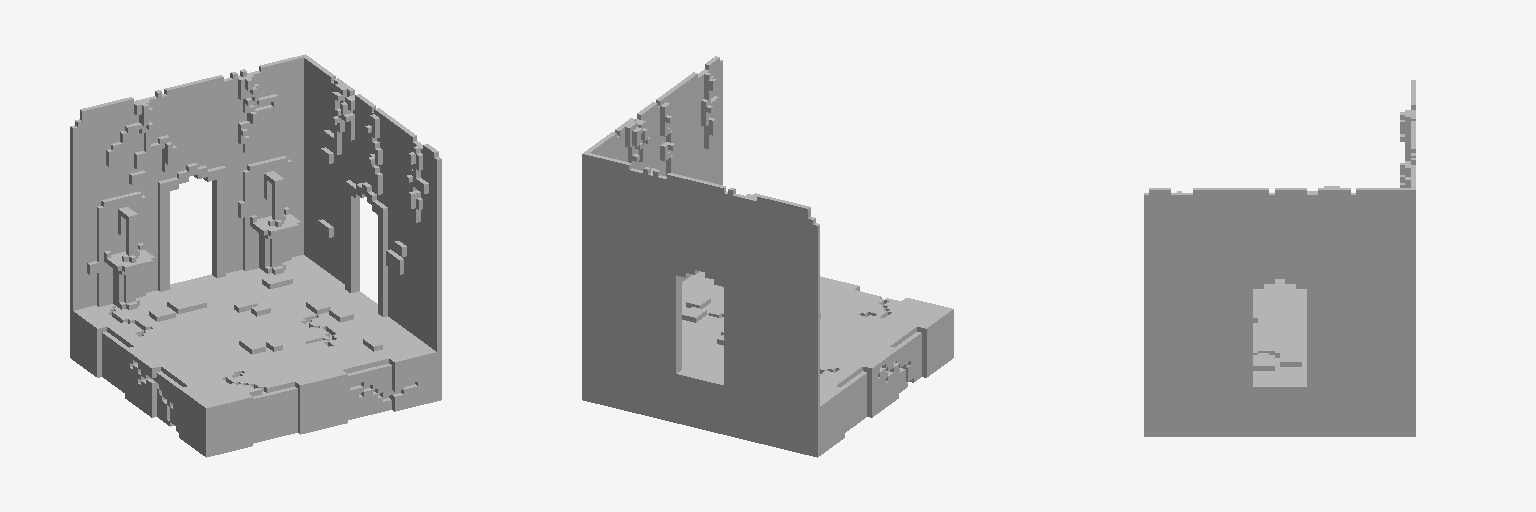
File: Thirsty Corridor.obj
3 views of the same model, side by side, from view 1: azimuth 30°, elevation 25°; view 2: azimuth 150°, elevation 25°; view 3: azimuth 270°, elevation 25° (orthographic).
Parts seen in each view (by area): view 1: ThirstyCorridor; view 2: ThirstyCorridor; view 3: ThirstyCorridor.
Part boxes in pixels (bbox=[...]): ThirstyCorridor: bbox=[70, 54, 441, 457]; ThirstyCorridor: bbox=[582, 56, 953, 457]; ThirstyCorridor: bbox=[1144, 80, 1415, 436].
Size of the model in its own units: 5 by 5 by 5.